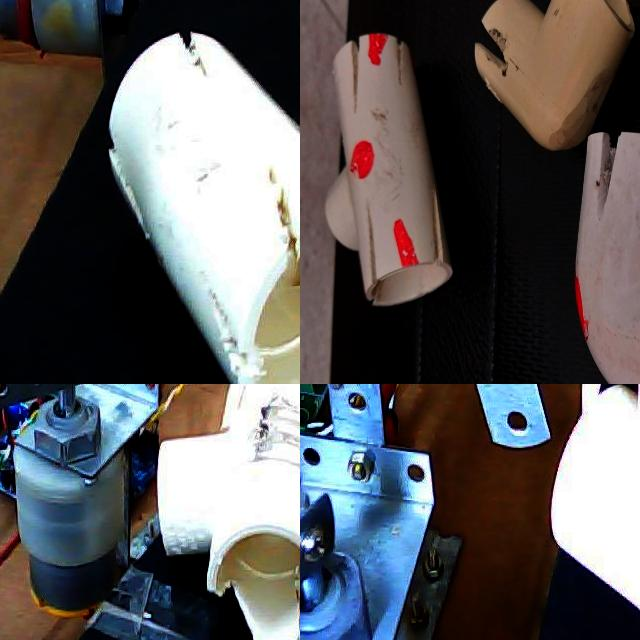Defective: (226, 133, 300, 283), (208, 528, 300, 640), (102, 123, 174, 249), (183, 283, 270, 384), (257, 384, 300, 489), (176, 10, 207, 97), (500, 350, 573, 384), (465, 89, 507, 123), (531, 35, 563, 66)
L Joint: (553, 198, 640, 384)
T Joint: (107, 29, 300, 384), (157, 384, 300, 640), (444, 0, 640, 168), (300, 160, 345, 384)
